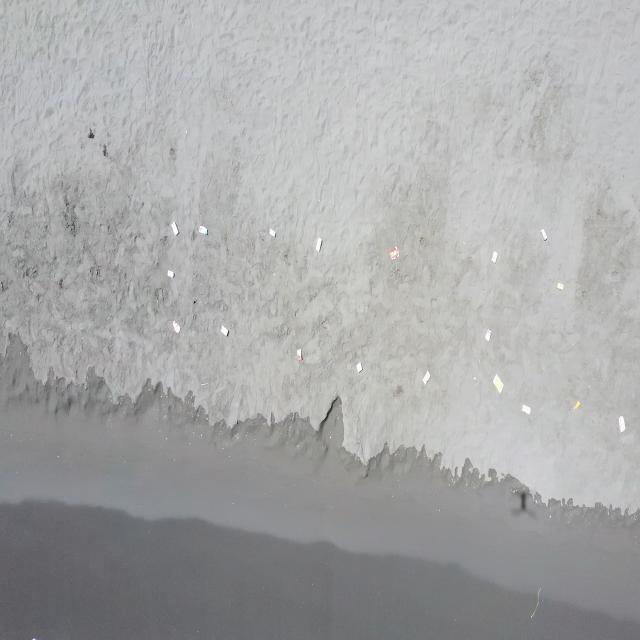Garbage: (529, 587, 540, 617), (492, 373, 503, 392), (388, 247, 399, 260), (617, 415, 624, 432), (422, 371, 430, 384), (172, 220, 178, 235), (198, 225, 207, 235), (172, 320, 179, 332), (520, 404, 529, 413), (220, 324, 227, 335), (484, 329, 491, 340), (540, 228, 546, 240), (355, 362, 362, 372), (315, 238, 320, 251), (296, 347, 301, 360), (268, 227, 275, 236), (555, 281, 563, 288), (573, 400, 580, 408), (492, 251, 496, 263), (167, 270, 173, 276), (200, 382, 207, 384)
